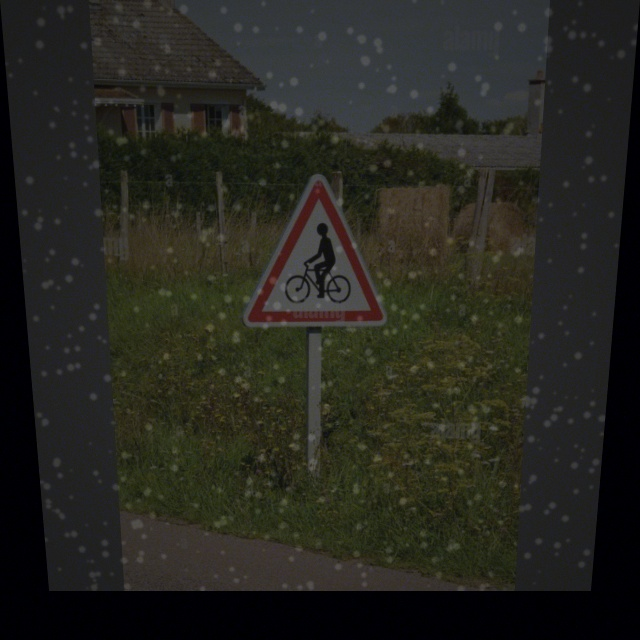Cycle_Crossing: (251, 177, 390, 332)
